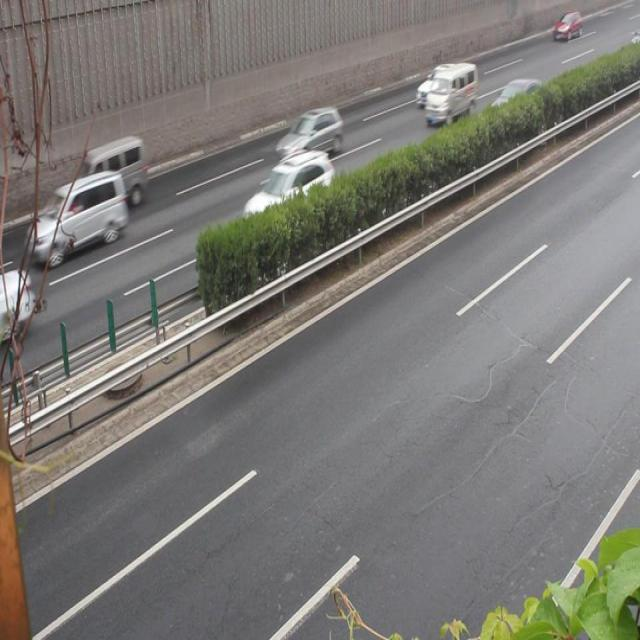car: (242, 146, 332, 232), (274, 103, 340, 158), (486, 77, 545, 138), (413, 62, 458, 103)
